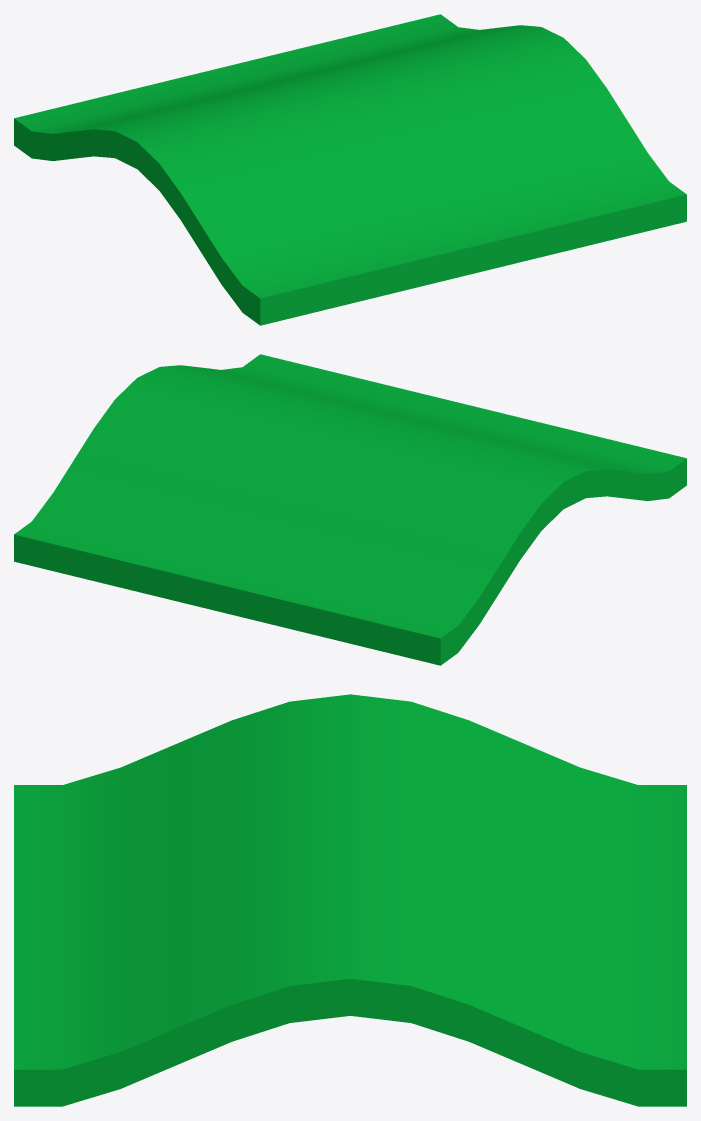
The model's file is basic_bigwave.gltf.
The picture shows the model from 3 angles, top to bottom: view 1: azimuth 30°, elevation 25°; view 2: azimuth 150°, elevation 25°; view 3: azimuth 270°, elevation 25°; orthographic projection. The views are drawn at different scales.
Visible parts, largest first — view 1: basic_bigwave_glb; view 2: basic_bigwave_glb; view 3: basic_bigwave_glb.
Boxes of the visible parts, left/top/right/bottom form: basic_bigwave_glb: left=14, top=14, right=686, bottom=325; basic_bigwave_glb: left=14, top=354, right=686, bottom=665; basic_bigwave_glb: left=14, top=694, right=686, bottom=1106.
Size of what is drawn, in the model's own units: 4 by 0.8385 by 4.
1 material, 1 textured.
